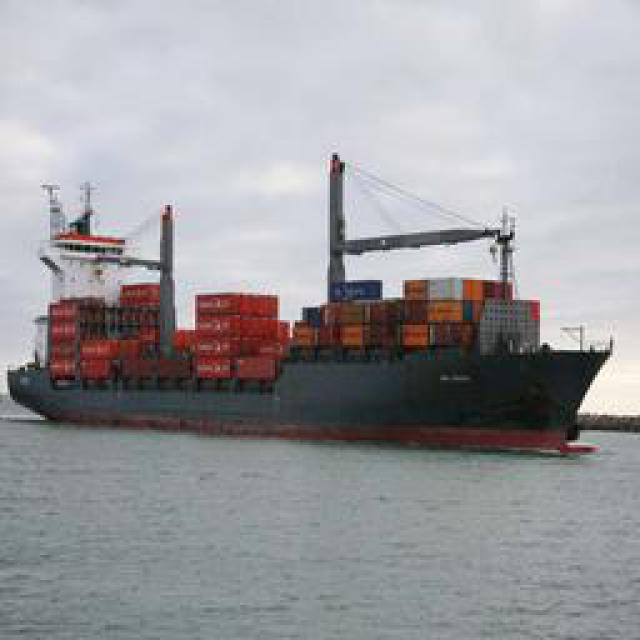Ship: (16, 159, 611, 454)
